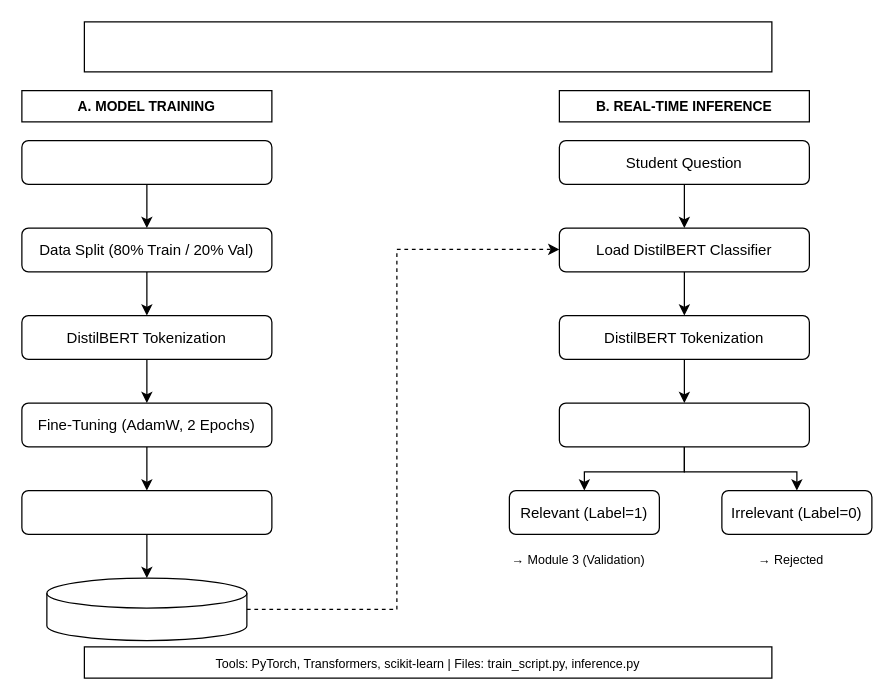
The diagram is 894 pixels wide and 700 high, and some of its shapes have lost their labels. The centre of each missing label's shape, as x and y in pixels:
Binary Classification (~18ms): the point at 683,424
DistilBERT Model Artifact: the point at 146,609
Labeled Dataset from Module 1: the point at 146,161
Model Evaluation (99%+ Accuracy): the point at 146,511
MODULE 2: DISTILBERT TRAINING & CLASSIFICATION: the point at 427,46
